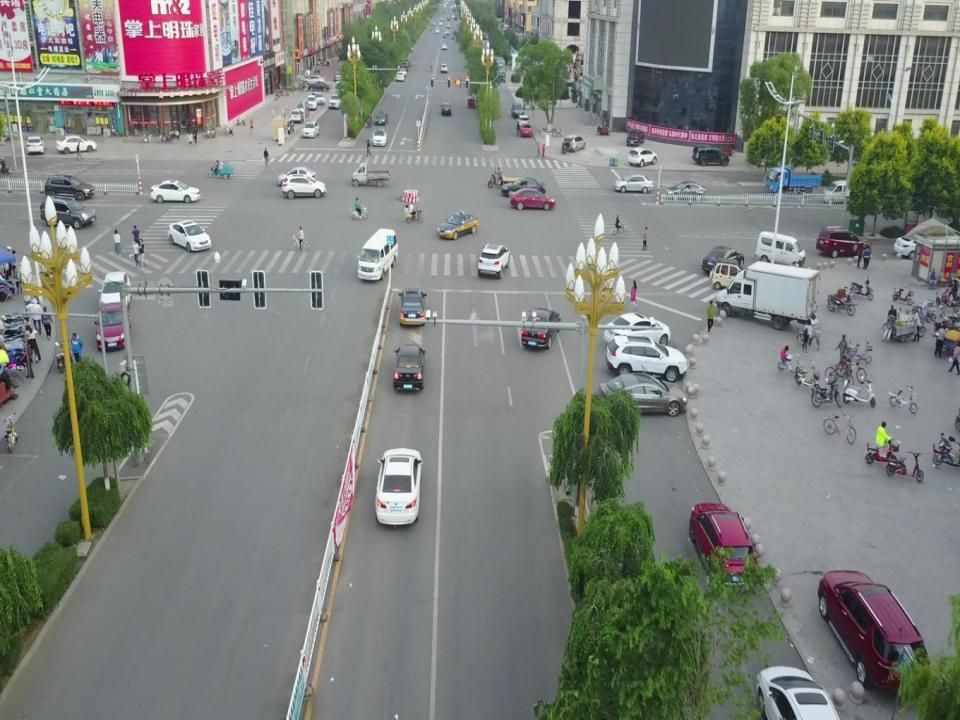car: (816, 566, 932, 694), (689, 502, 758, 591), (754, 663, 842, 720), (603, 335, 689, 383), (596, 371, 687, 416), (374, 447, 423, 526), (604, 313, 672, 348), (39, 195, 98, 228), (93, 303, 131, 351), (520, 307, 561, 349), (816, 225, 868, 257), (893, 232, 949, 260), (392, 344, 426, 390), (166, 220, 212, 253), (98, 271, 131, 313), (44, 174, 95, 201), (436, 210, 480, 240), (398, 287, 428, 327), (149, 179, 201, 202), (702, 246, 744, 274), (478, 242, 510, 278), (281, 174, 327, 199), (510, 188, 556, 210), (500, 177, 546, 197), (665, 181, 708, 201), (54, 134, 97, 154), (276, 166, 318, 186), (692, 144, 730, 166), (612, 173, 654, 192), (627, 146, 658, 166), (562, 134, 586, 153), (24, 136, 44, 154), (626, 128, 645, 145), (301, 121, 320, 138), (301, 74, 326, 85), (372, 128, 387, 146), (307, 81, 330, 91), (280, 118, 295, 133), (519, 122, 533, 138), (328, 93, 342, 109), (510, 103, 524, 118), (290, 109, 304, 123), (375, 110, 388, 125), (517, 115, 531, 128), (312, 93, 326, 106), (306, 95, 318, 110), (440, 102, 452, 115), (399, 61, 411, 71), (333, 71, 344, 81), (396, 71, 404, 82), (397, 68, 406, 77), (440, 63, 448, 73), (404, 58, 412, 66), (441, 43, 448, 49), (442, 32, 447, 38), (445, 29, 449, 35)
truck: (764, 166, 822, 196), (351, 162, 390, 186), (491, 52, 507, 82)
van: (714, 260, 820, 331), (357, 228, 398, 281), (756, 231, 805, 267), (822, 180, 857, 202), (295, 103, 309, 118)
